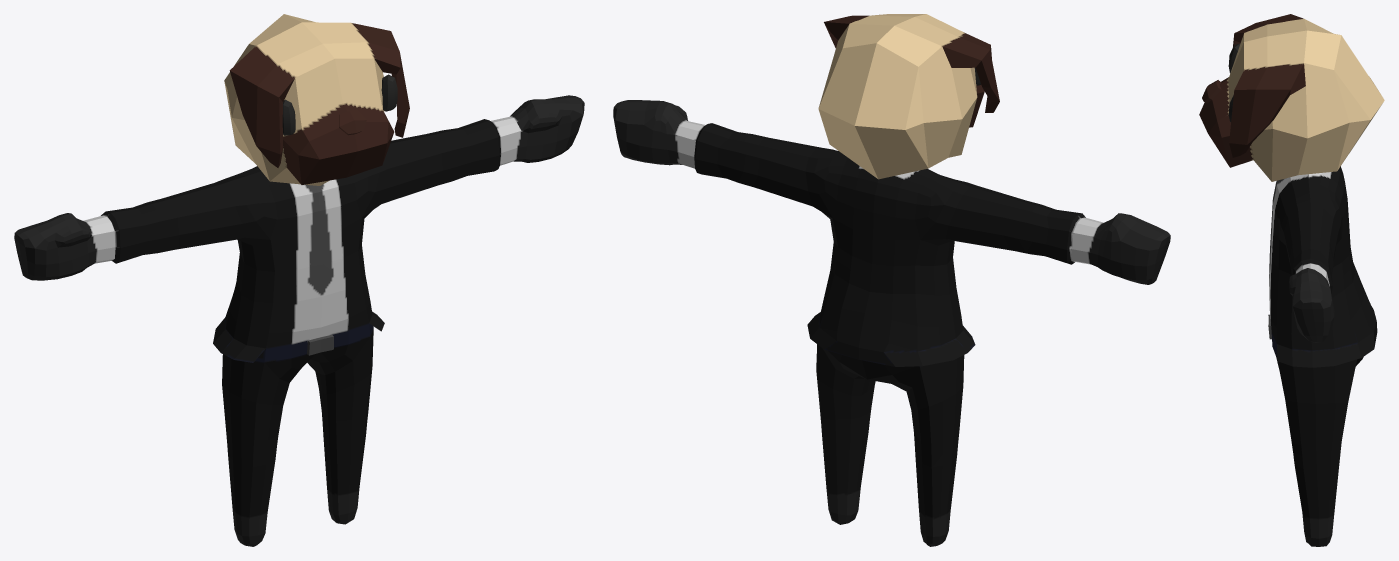
Rendered from Pug.fbx.
3 views of the same model, side by side, from view 1: azimuth 30°, elevation 25°; view 2: azimuth 150°, elevation 25°; view 3: azimuth 270°, elevation 25° (orthographic). The views are drawn at different scales.
Parts seen in each view (by area): view 1: Body; view 2: Body; view 3: Body.
Boxes of the visible parts, x1,y1,x2,y2 form: Body: [14, 14, 584, 546]; Body: [613, 14, 1170, 546]; Body: [1199, 14, 1384, 546].
Size of the model in its own units: 324 by 283 by 96.53.
1 material, 1 textured.
